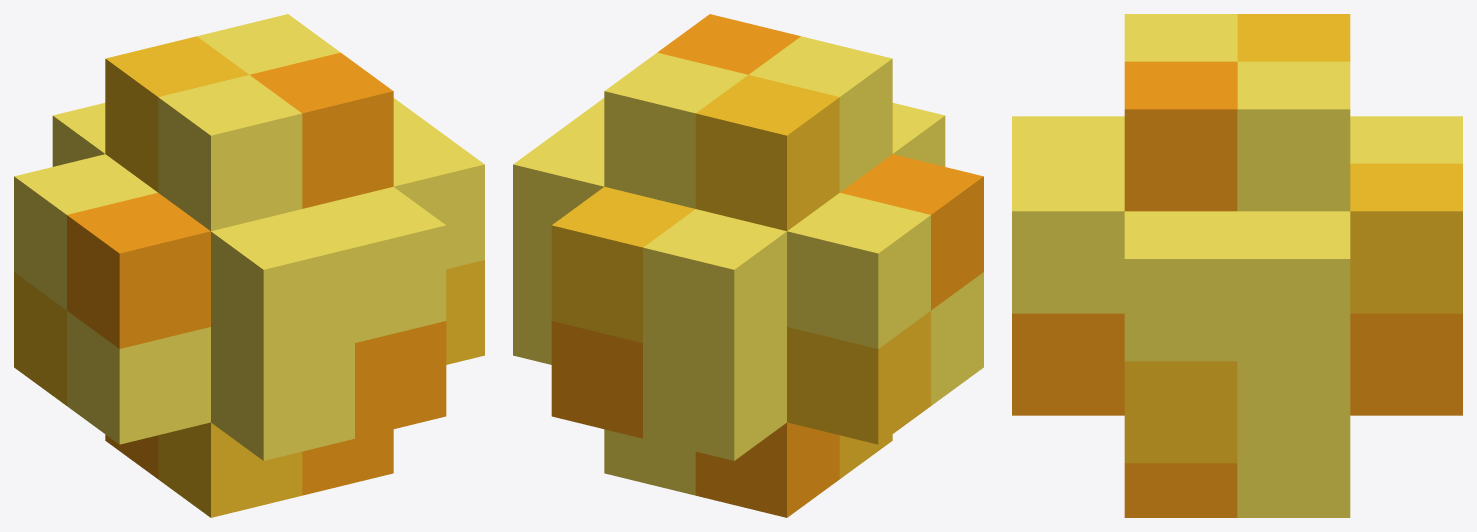
The model's file is BonusBall.obj.
The picture shows the model from 3 angles, left to right: view 1: azimuth 30°, elevation 25°; view 2: azimuth 150°, elevation 25°; view 3: azimuth 270°, elevation 25°; orthographic projection. The views are drawn at different scales.
Visible parts, largest first — view 1: BonusBall; view 2: BonusBall; view 3: BonusBall.
Boxes of the visible parts, x1,y1,x2,y2 form: BonusBall: (14,14,484,517); BonusBall: (513,14,983,517); BonusBall: (1012,14,1462,517).
Bounding box in the file's own units: 4 × 4 × 4.
1 material, 1 textured.
